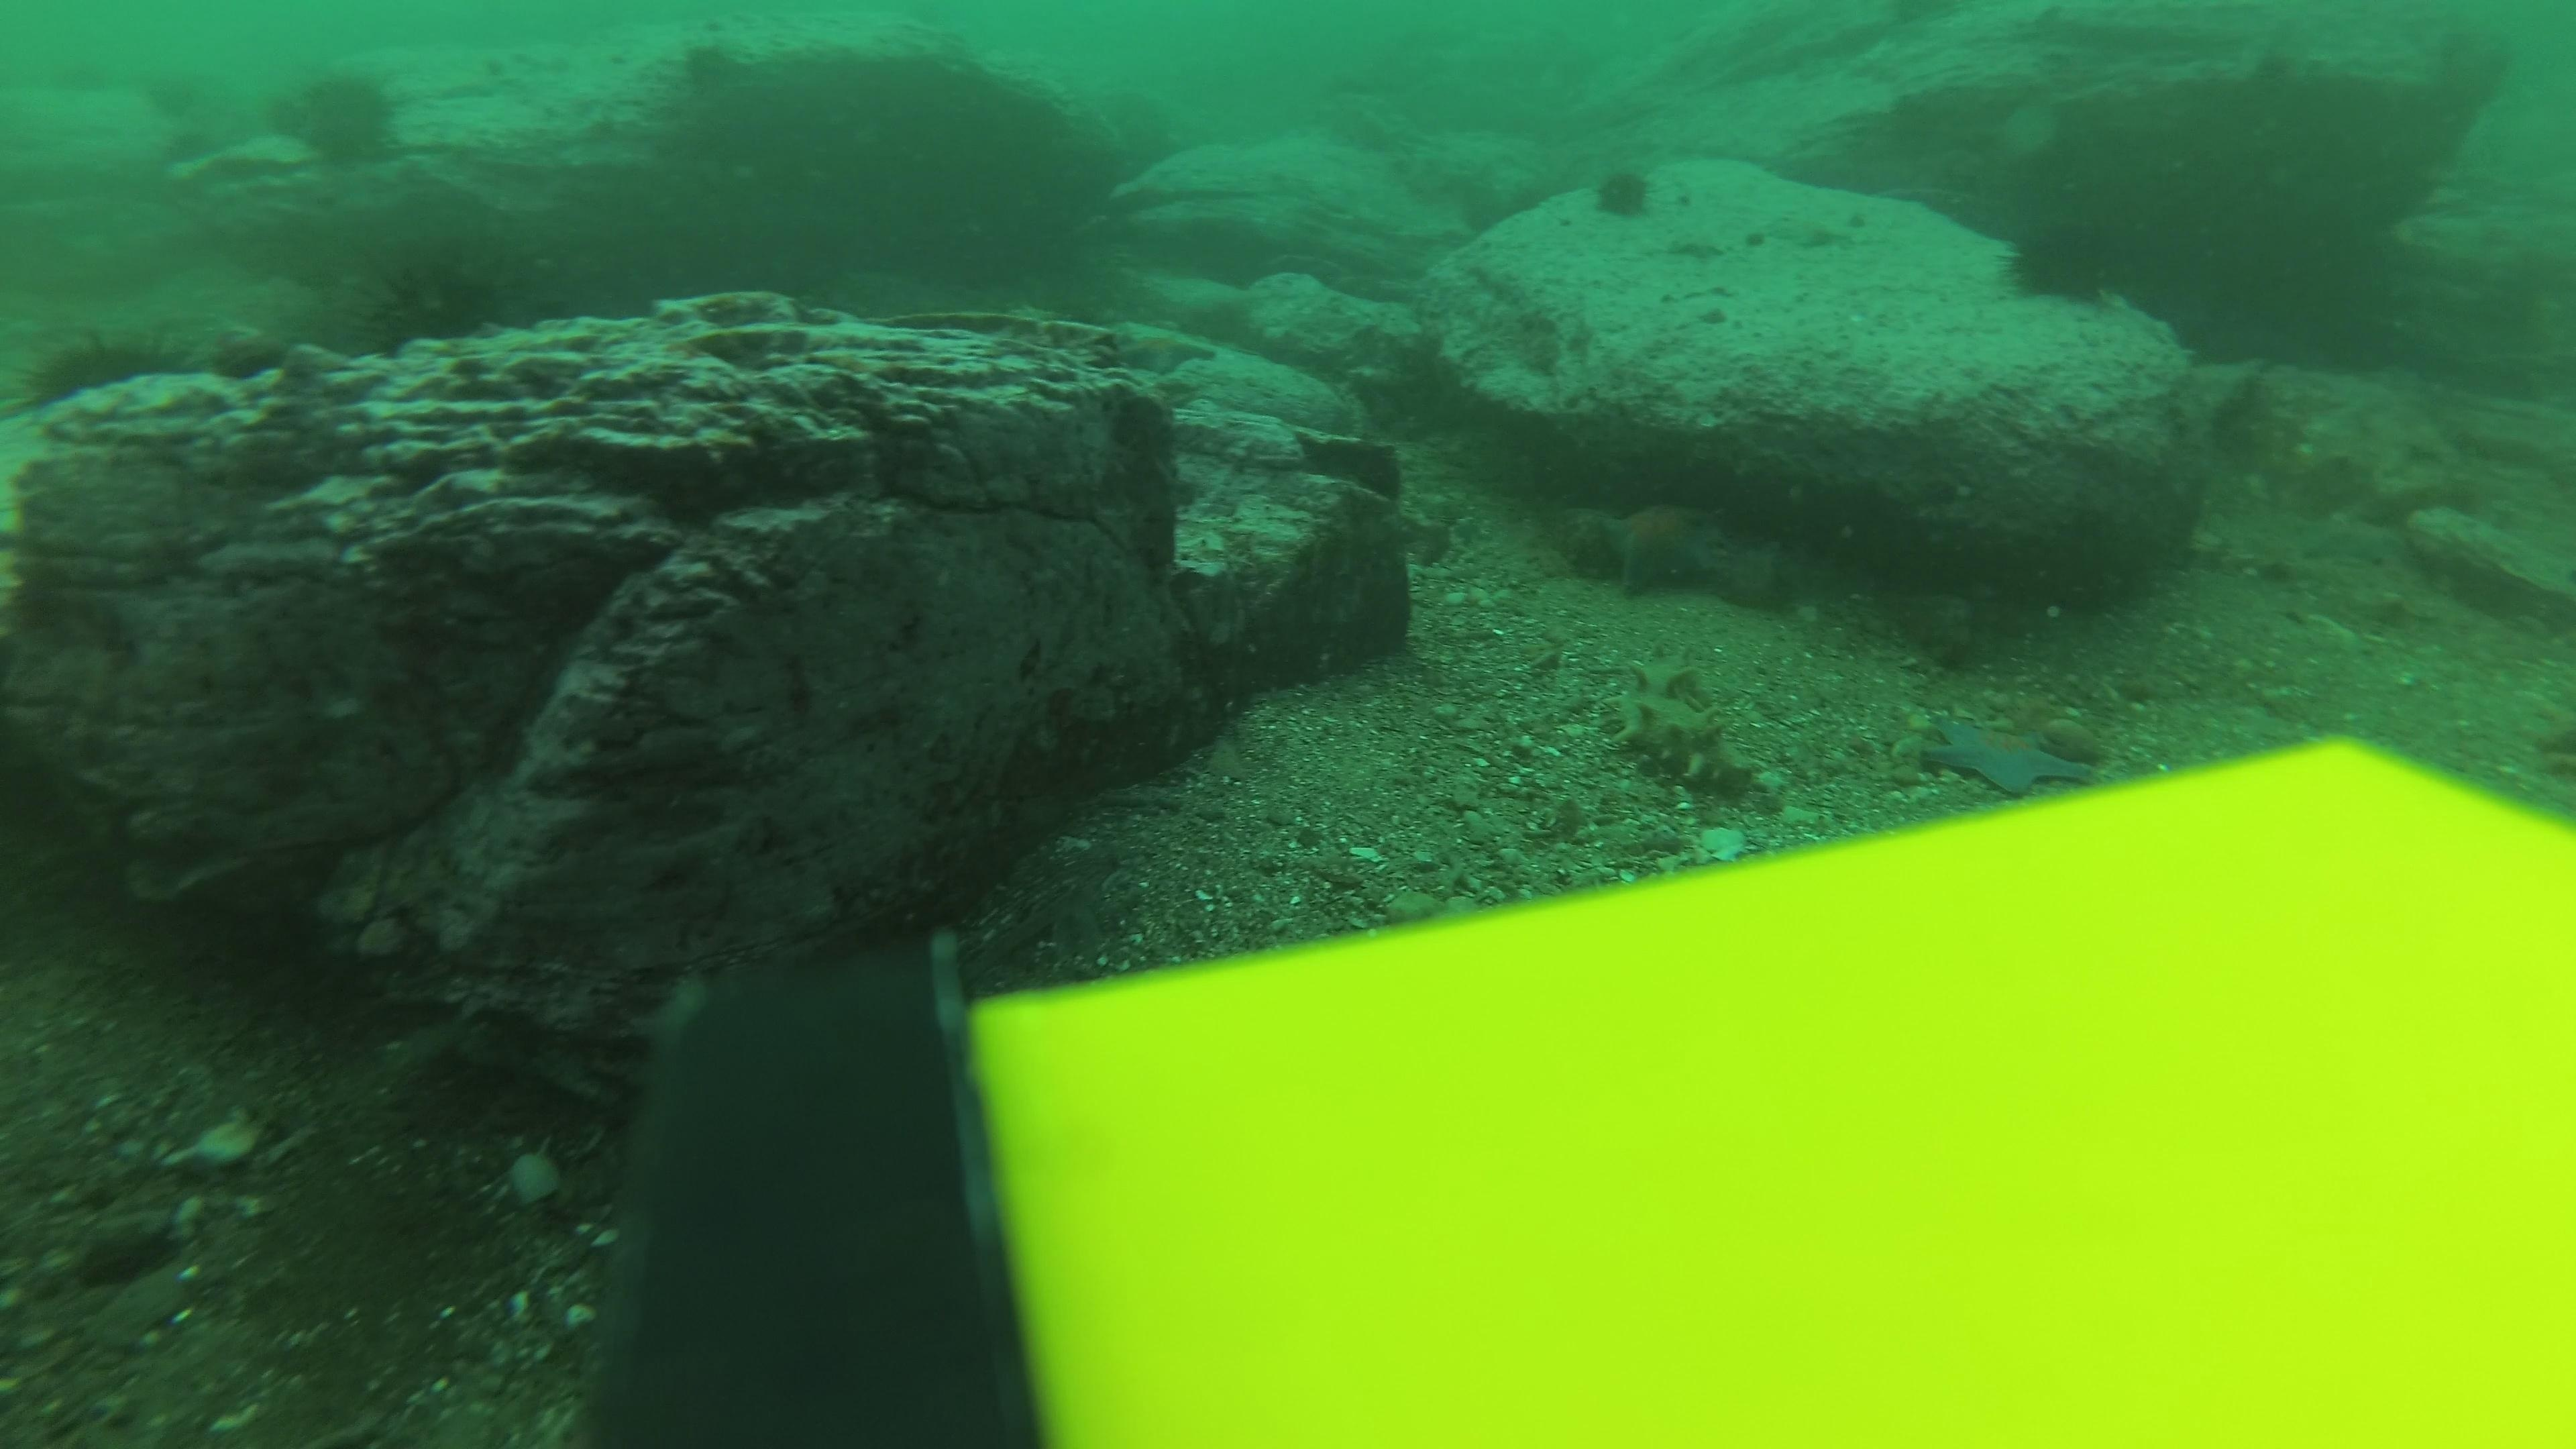echinus: (356, 248, 508, 361), (18, 320, 193, 418), (271, 58, 410, 172), (1996, 205, 2132, 313), (1583, 156, 1663, 226)
holothurian: (1601, 651, 1767, 810)
starfish: (1914, 702, 2109, 800), (1576, 488, 1736, 600), (2284, 506, 2411, 573), (1095, 320, 1223, 380)
